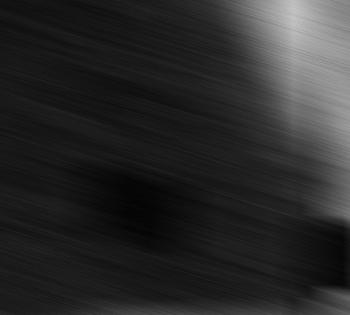Airbag: (0, 0, 350, 314), (338, 0, 350, 314)
